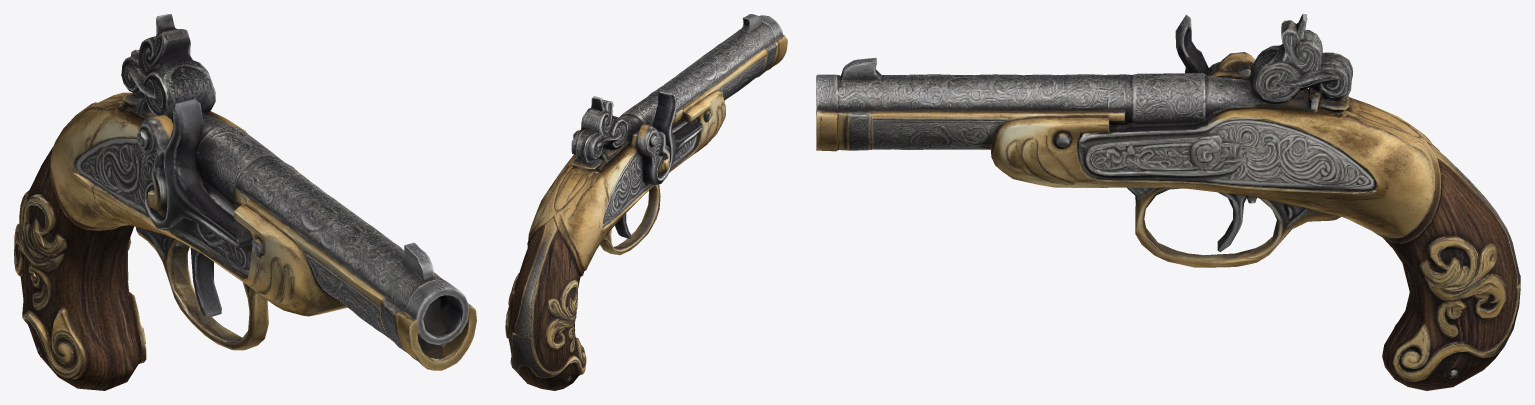
File: flintlock.high.glb
3 renders of one model, left to right at view 1: azimuth 30°, elevation 25°; view 2: azimuth 150°, elevation 25°; view 3: azimuth 270°, elevation 25°, orthographic. The views are drawn at different scales.
Parts seen in each view (by area): view 1: model; view 2: model; view 3: model.
Part boxes in pixels (box(x1,y1,x2,y2)): model: box(14, 14, 476, 390); model: box(505, 14, 787, 390); model: box(816, 14, 1520, 390).
Bounding box in the file's own units: 0.057 × 0.1965 × 0.34.
1 material, 1 textured.
